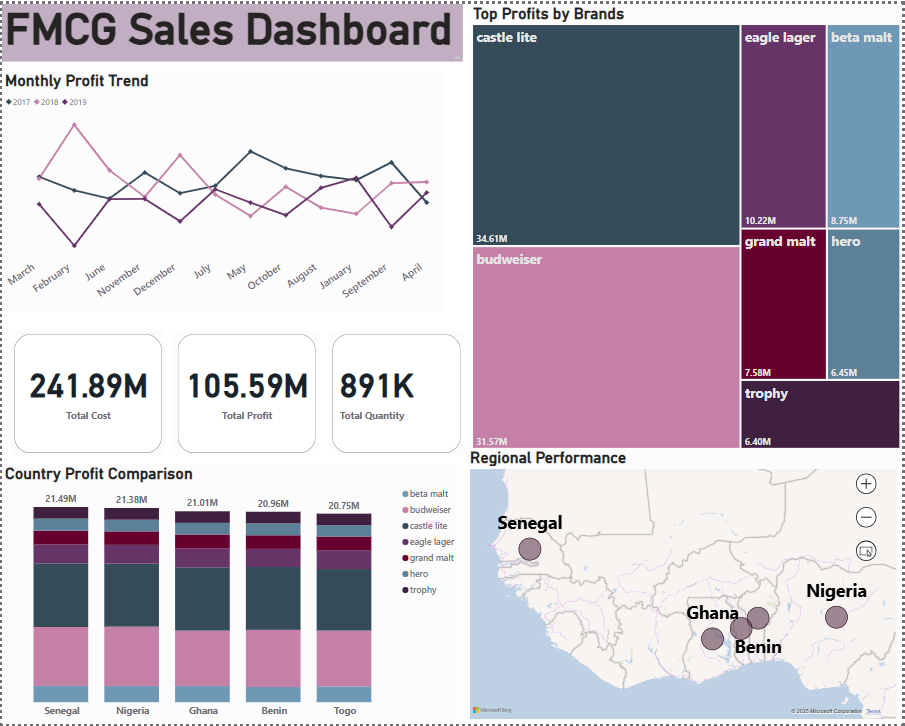

Layout of this report page (visuals, bound fields, positions):
{"tool":"powerbi","page":{"name":"Profit Analysis","canvas":[1500,1200],"ordinal":0},"visuals":[{"type":"lineChart","title":"Monthly Profit Trend","fields":{"Y":["Sum(public fmcg_analysis.PROFIT)"],"Category":["public fmcg_analysis.MONTHS"],"Series":["public fmcg_analysis.YEARS"]},"box":[0,112,736,400],"z":0},{"type":"columnChart","title":"Country Profit Comparison","fields":{"Category":["public fmcg_analysis.COUNTRIES"],"Y":["Sum(public fmcg_analysis.PROFIT)"],"Series":["public fmcg_analysis.BRANDS"]},"box":[0,768,768,432],"z":1000},{"type":"treemap","title":"Top Profits by Brands","fields":{"Group":["public fmcg_analysis.BRANDS"],"Values":["Sum(public fmcg_analysis.PROFIT)"]},"box":[780,0,720,744],"z":2000},{"type":"map","title":"Regional Performance","fields":{"Category":["public fmcg_analysis.COUNTRIES"],"Size":["Sum(public fmcg_analysis.QUANTITY)"]},"box":[776,740,720,456],"z":3000},{"type":"textbox","title":"FMCG Sales Dashboard","box":[0,0,768,96],"z":4000},{"type":"cardVisual","fields":{"Data":["Sum(public fmcg_analysis.PROFIT)"]},"box":[288,544,240,208],"z":5000},{"type":"cardVisual","fields":{"Data":["Sum(public fmcg_analysis.QUANTITY)"]},"box":[544,544,224,208],"z":6000},{"type":"cardVisual","fields":{"Data":["Sum(public fmcg_analysis.COST)"]},"box":[16,544,256,208],"z":7000}]}

Visuals, with their boxes in screenshot pixels (x1, y1, x2, y2), scaled from the page's 1500x1200 canvas onto the 905x726 screenshot:
"Monthly Profit Trend" lineChart: locate(0, 68, 444, 310)
"Country Profit Comparison" columnChart: locate(0, 465, 463, 725)
"Top Profits by Brands" treemap: locate(471, 0, 904, 450)
"Regional Performance" map: locate(468, 448, 903, 724)
"FMCG Sales Dashboard" textbox: locate(0, 0, 463, 58)
cardVisual - Sum(public fmcg_analysis.PROFIT): locate(174, 329, 319, 455)
cardVisual - Sum(public fmcg_analysis.QUANTITY): locate(328, 329, 463, 455)
cardVisual - Sum(public fmcg_analysis.COST): locate(10, 329, 164, 455)
